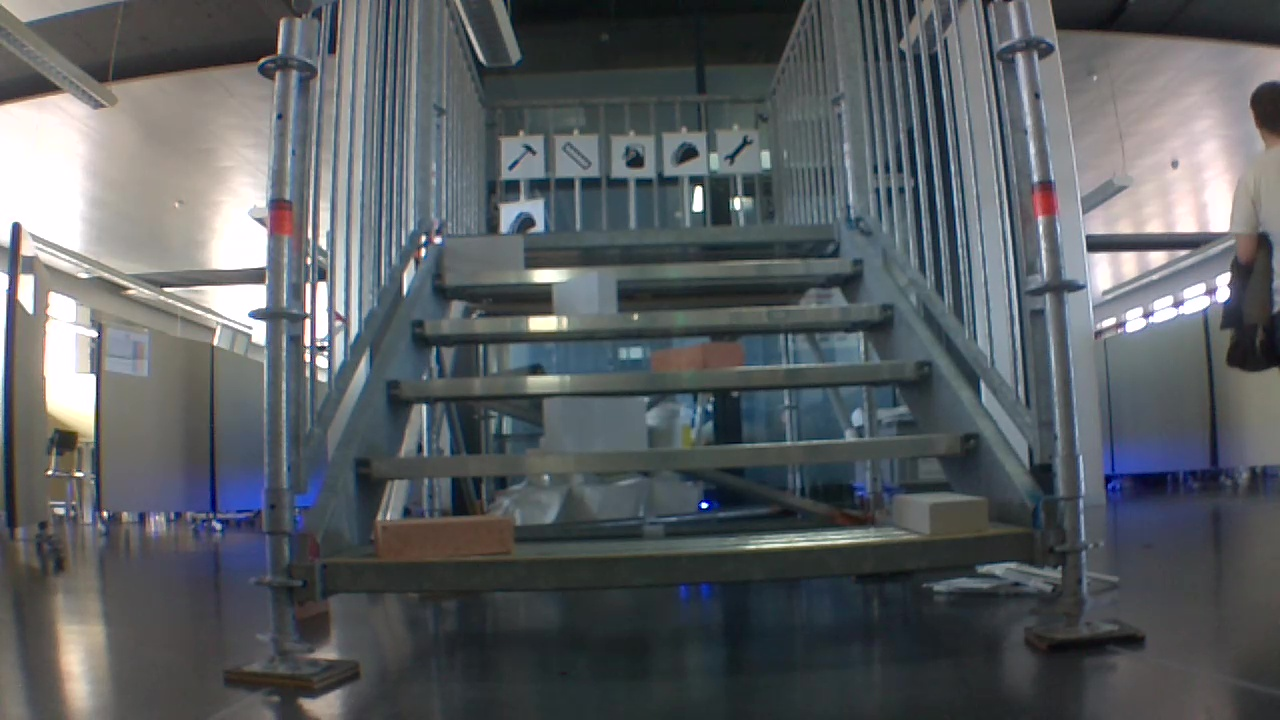brick: (377, 514, 511, 562), (542, 398, 644, 451), (890, 491, 986, 536), (444, 237, 521, 272), (553, 272, 615, 314), (652, 342, 744, 367)
bucket: (616, 140, 648, 171)
edge: (320, 532, 1031, 591), (356, 432, 979, 476), (388, 358, 933, 396), (408, 303, 895, 334), (429, 258, 863, 283), (441, 224, 839, 245)
hammer: (505, 140, 538, 173)
ruler: (557, 138, 596, 174)
stairs: (222, 2, 1149, 688)
steps: (316, 216, 1039, 604)
taco: (668, 141, 702, 169), (505, 208, 536, 234)
wrench: (718, 130, 755, 169)
